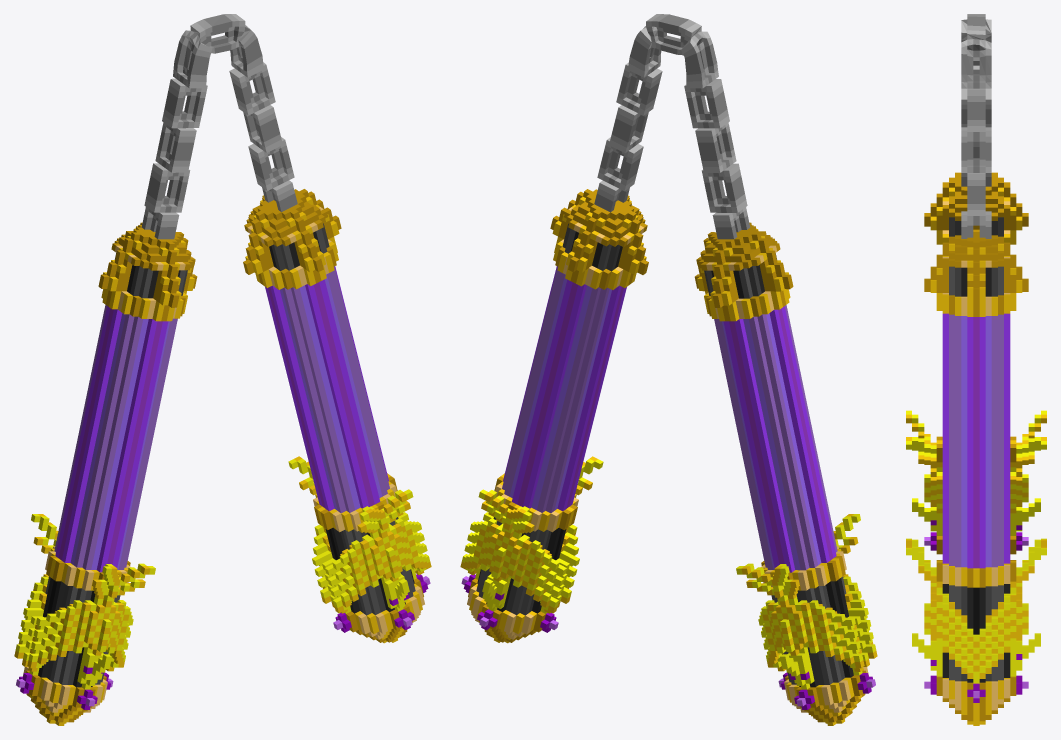
The model's file is nunchaku-lv2.glb.
The picture shows the model from 3 angles, left to right: view 1: azimuth 30°, elevation 25°; view 2: azimuth 150°, elevation 25°; view 3: azimuth 270°, elevation 25°; orthographic projection. The views are drawn at different scales.
Visible parts, largest first — view 1: nunchaku lv2; view 2: nunchaku lv2; view 3: nunchaku lv2.
Part boxes in pixels (x1,y1,x2,y2): nunchaku lv2: (14,14,431,725); nunchaku lv2: (460,14,877,725); nunchaku lv2: (906,14,1046,725).
Size of the model in its own units: 0.6278 by 0.9693 by 0.1972.
Materials: 1 (1 with a texture image).
